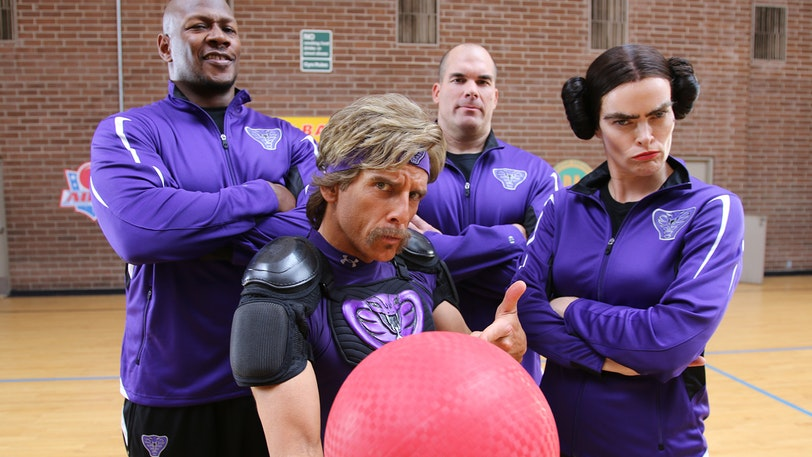red ball: (318, 330, 560, 457)
